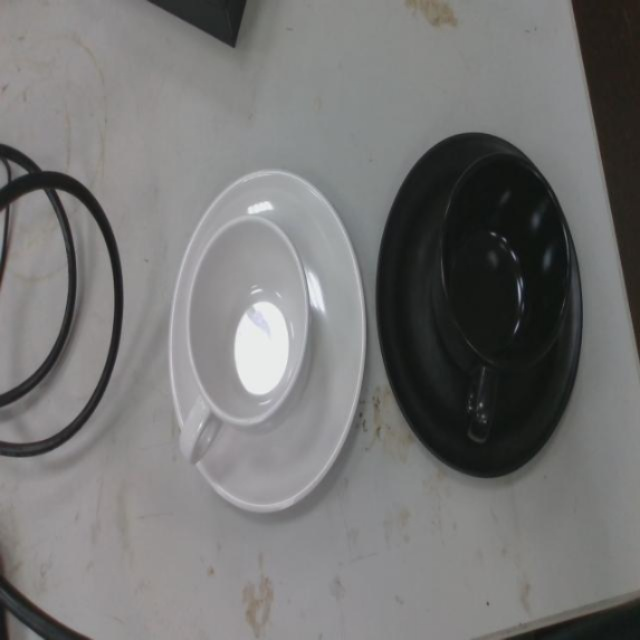black: (373, 126, 587, 482)
white: (165, 162, 370, 520)
